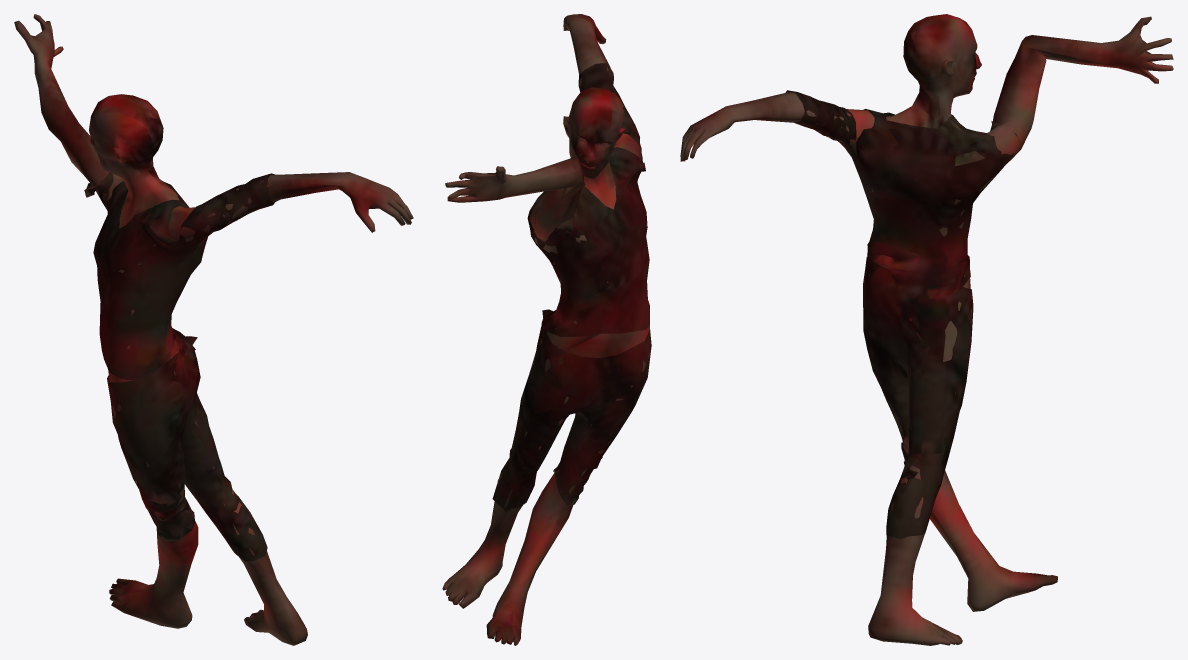
Rendered from zombie_attack.glb.
3 renders of one model, left to right at view 1: azimuth 30°, elevation 25°; view 2: azimuth 150°, elevation 25°; view 3: azimuth 270°, elevation 25°, orthographic. The views are drawn at different scales.
Parts seen in each view (by area): view 1: CityDeadOutfit:Mesh1_pose; view 2: CityDeadOutfit:Mesh1_pose; view 3: CityDeadOutfit:Mesh1_pose.
Part boxes in pixels (bbox=[...]): CityDeadOutfit:Mesh1_pose: bbox=[14, 14, 413, 645]; CityDeadOutfit:Mesh1_pose: bbox=[442, 14, 651, 645]; CityDeadOutfit:Mesh1_pose: bbox=[680, 14, 1173, 645].
Size of the model in its own units: 0.6269 by 1.75 by 1.39.
3 materials, 2 textured.
